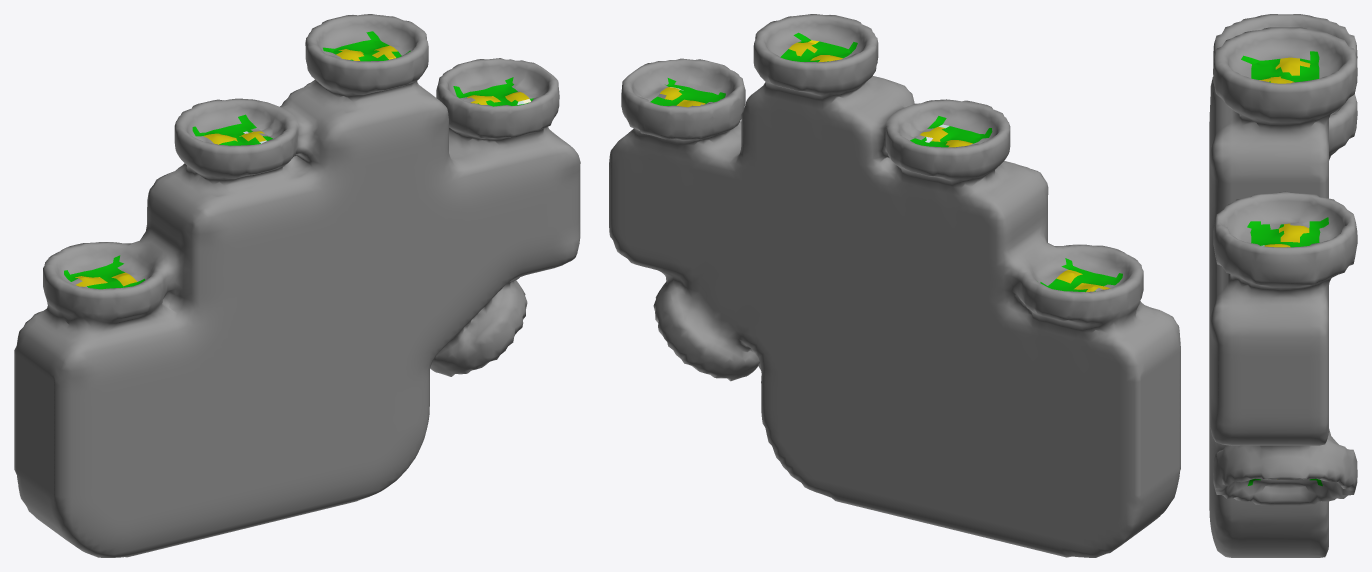
File: base_link_remeshed.dae
The picture shows the model from 3 angles, left to right: view 1: azimuth 30°, elevation 25°; view 2: azimuth 150°, elevation 25°; view 3: azimuth 270°, elevation 25°; orthographic projection. The views are drawn at different scales.
Parts seen in each view (by area): view 1: node0; view 2: node0; view 3: node0.
Part boxes in pixels (bbox=[...]): node0: bbox=[14, 14, 580, 557]; node0: bbox=[609, 14, 1180, 557]; node0: bbox=[1209, 14, 1357, 557].
Bounding box in the file's own units: 0.22 × 0.0458 × 0.1748.
